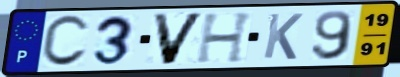3: (90, 13, 139, 68)
9: (310, 9, 355, 62)
C: (38, 14, 92, 70)
H: (194, 11, 257, 65)
K: (260, 12, 305, 61)
V: (150, 11, 208, 67)
